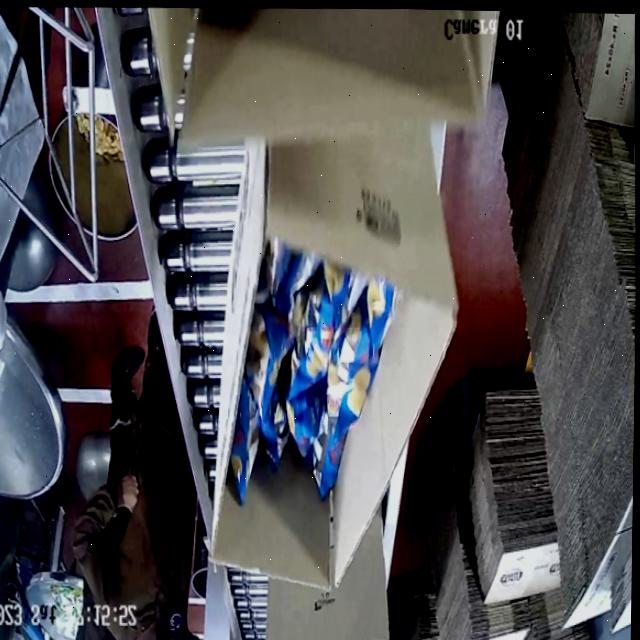PAPRIKA: (222, 254, 400, 495)
